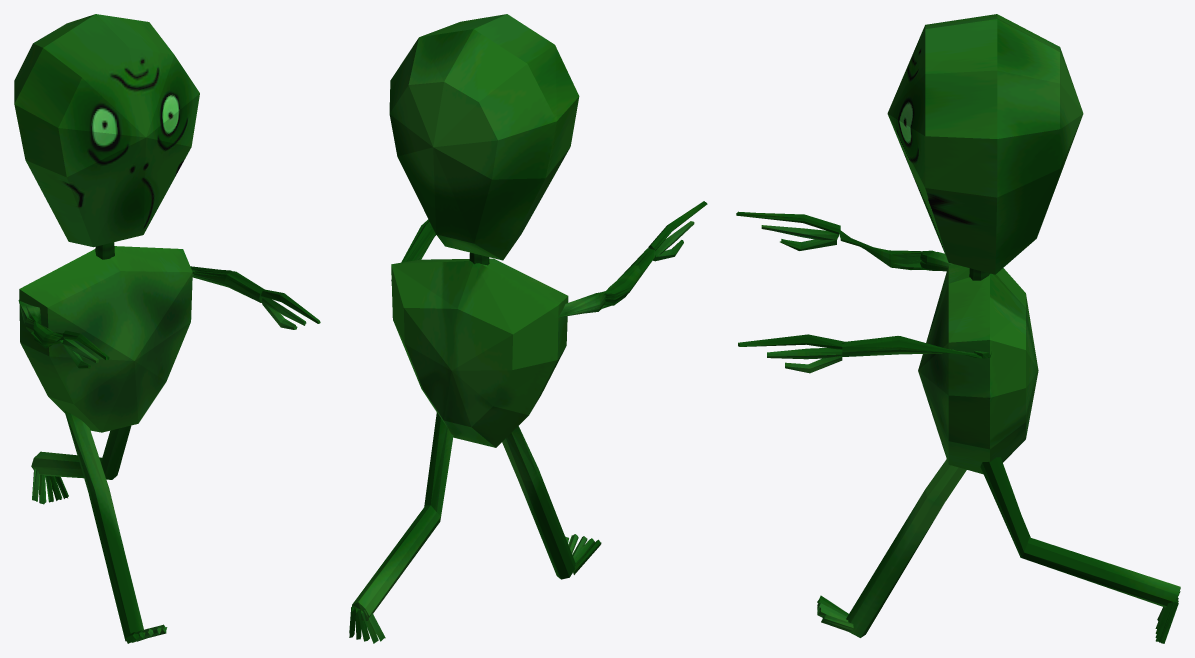
Rendered from Alien.glb.
The picture shows the model from 3 angles, left to right: view 1: azimuth 30°, elevation 25°; view 2: azimuth 150°, elevation 25°; view 3: azimuth 270°, elevation 25°; orthographic projection. The views are drawn at different scales.
Parts seen in each view (by area): view 1: Alien; view 2: Alien; view 3: Alien.
Part boxes in pixels (x1=…): Alien: x1=14, y1=14, x2=320, y2=643; Alien: x1=349, y1=14, x2=707, y2=643; Alien: x1=736, y1=14, x2=1180, y2=643.
Bounding box in the file's own units: 163 × 415 × 265.
1 material, 1 textured.
